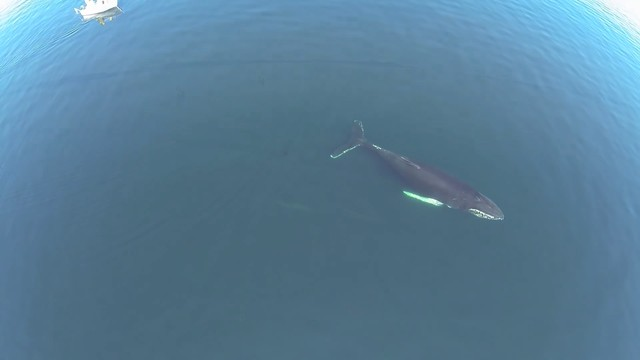whale: (323, 112, 517, 232)
